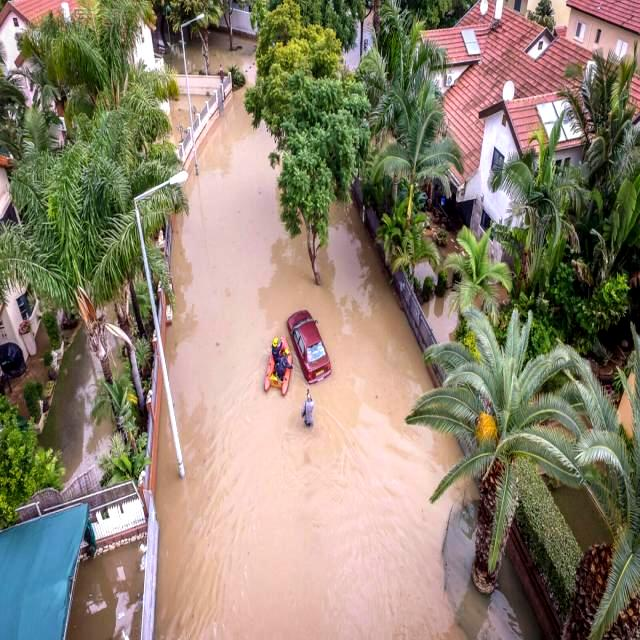civilian: (298, 394, 324, 427)
rescuer: (264, 332, 286, 365), (274, 346, 292, 378)
